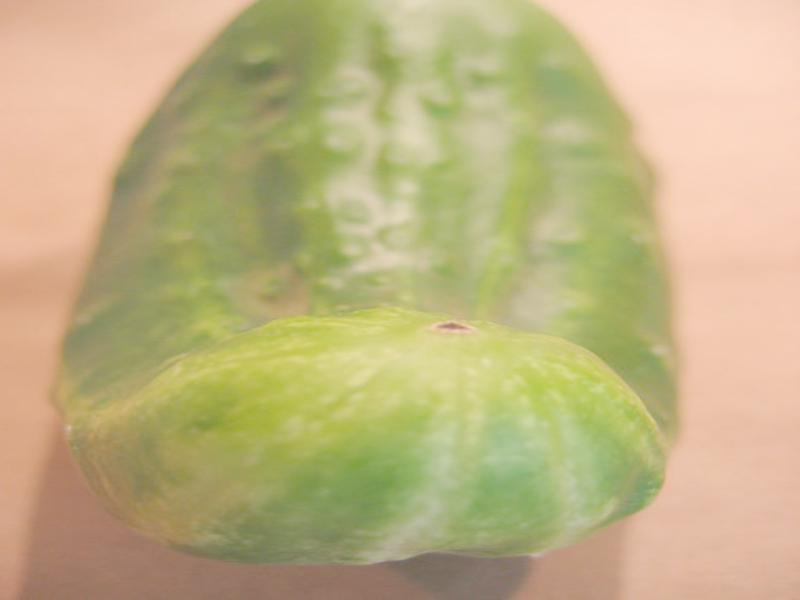Cucumber: (55, 1, 683, 563)
